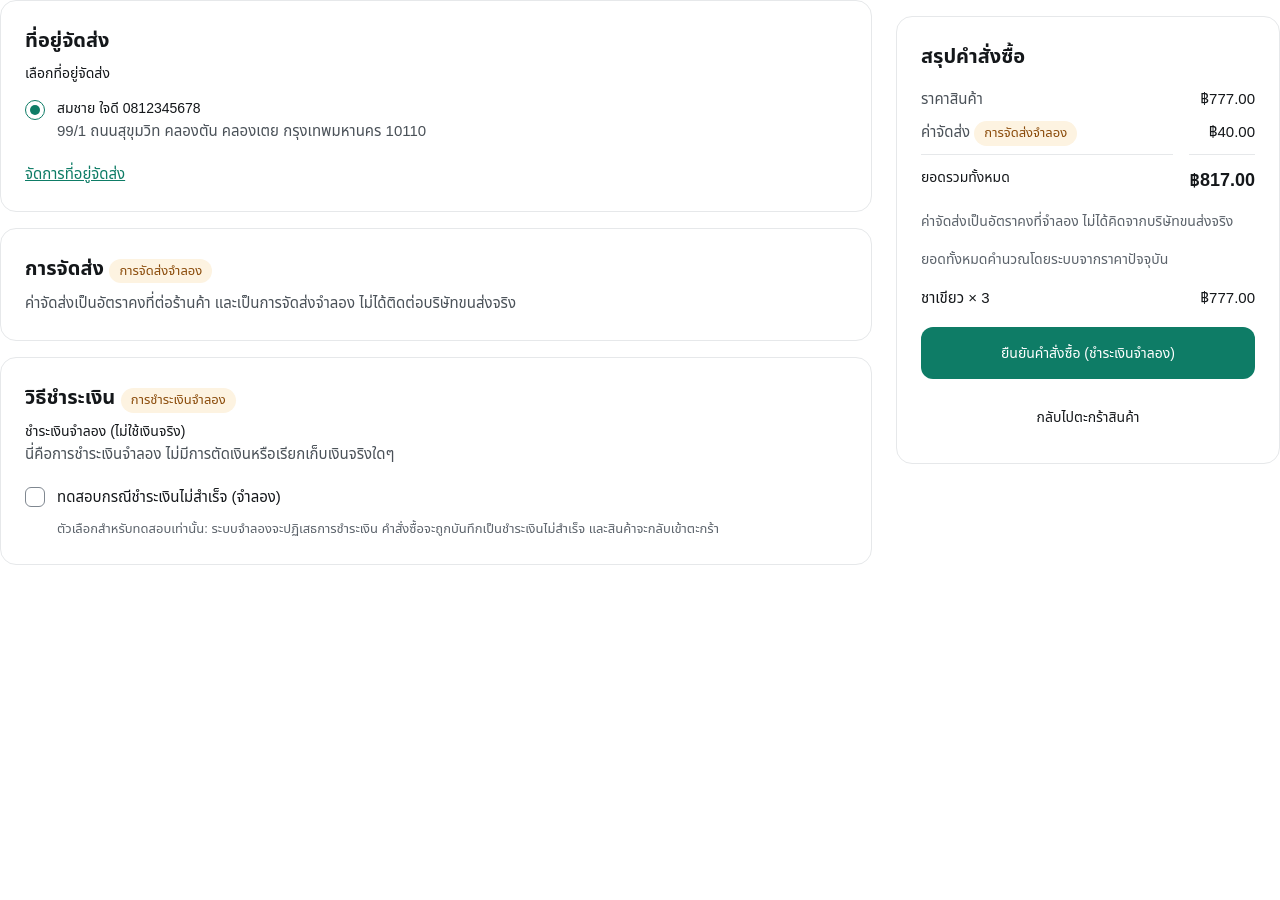
Test: CheckoutView submit › unlocks the form again when the check finds the cart changed
Click the button "ยืนยันคำสั่งซื้อ (ชำระเงินจำลอง)" at {"x": 1088, "y": 353}, box [921,327,1255,379]
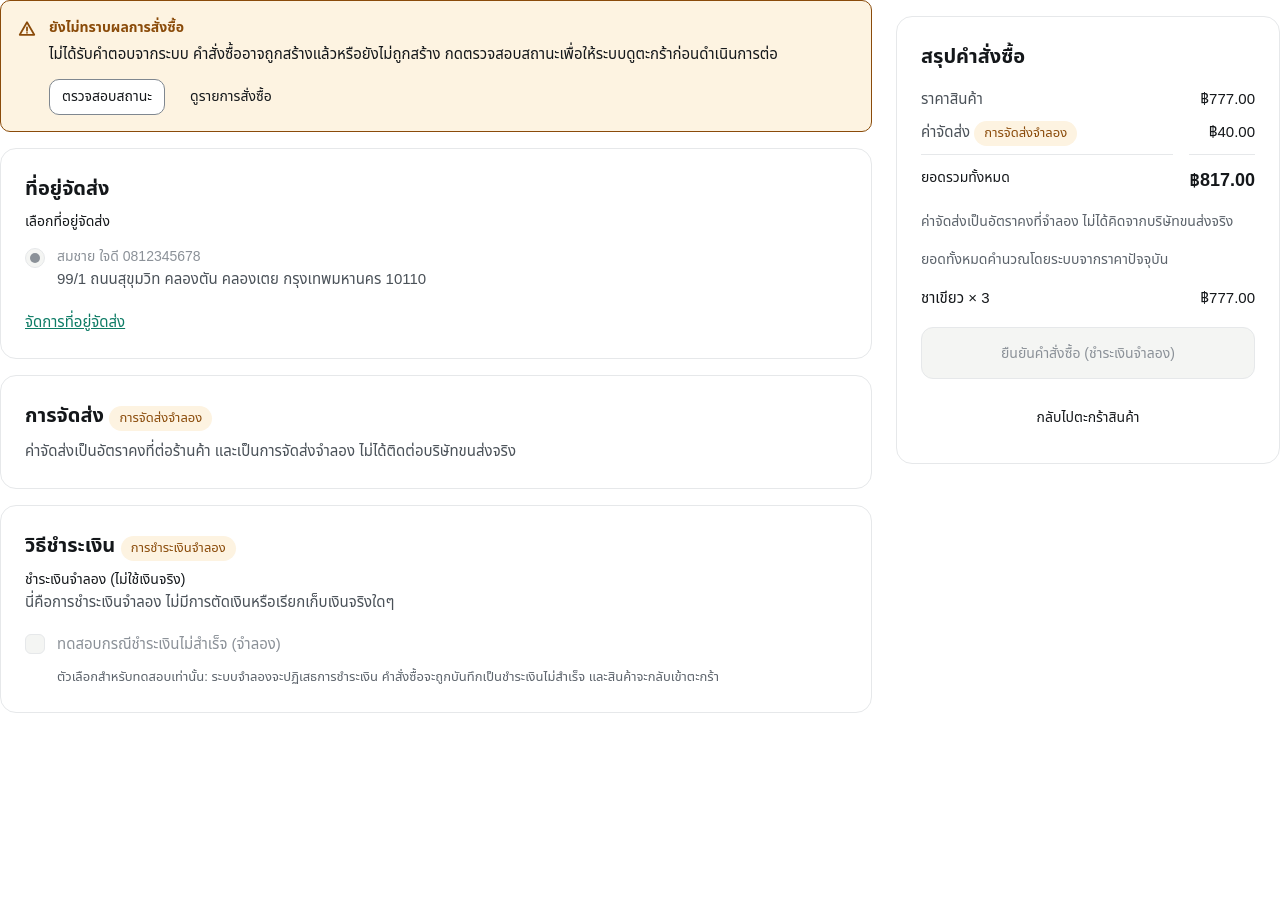
expect the text "ยังไม่ทราบผลการสั่งซื้อ" is shown: met, box [49,19,184,35]
Click the button "ตรวจสอบสถานะ" at {"x": 107, "y": 97}, box [49,79,165,115]
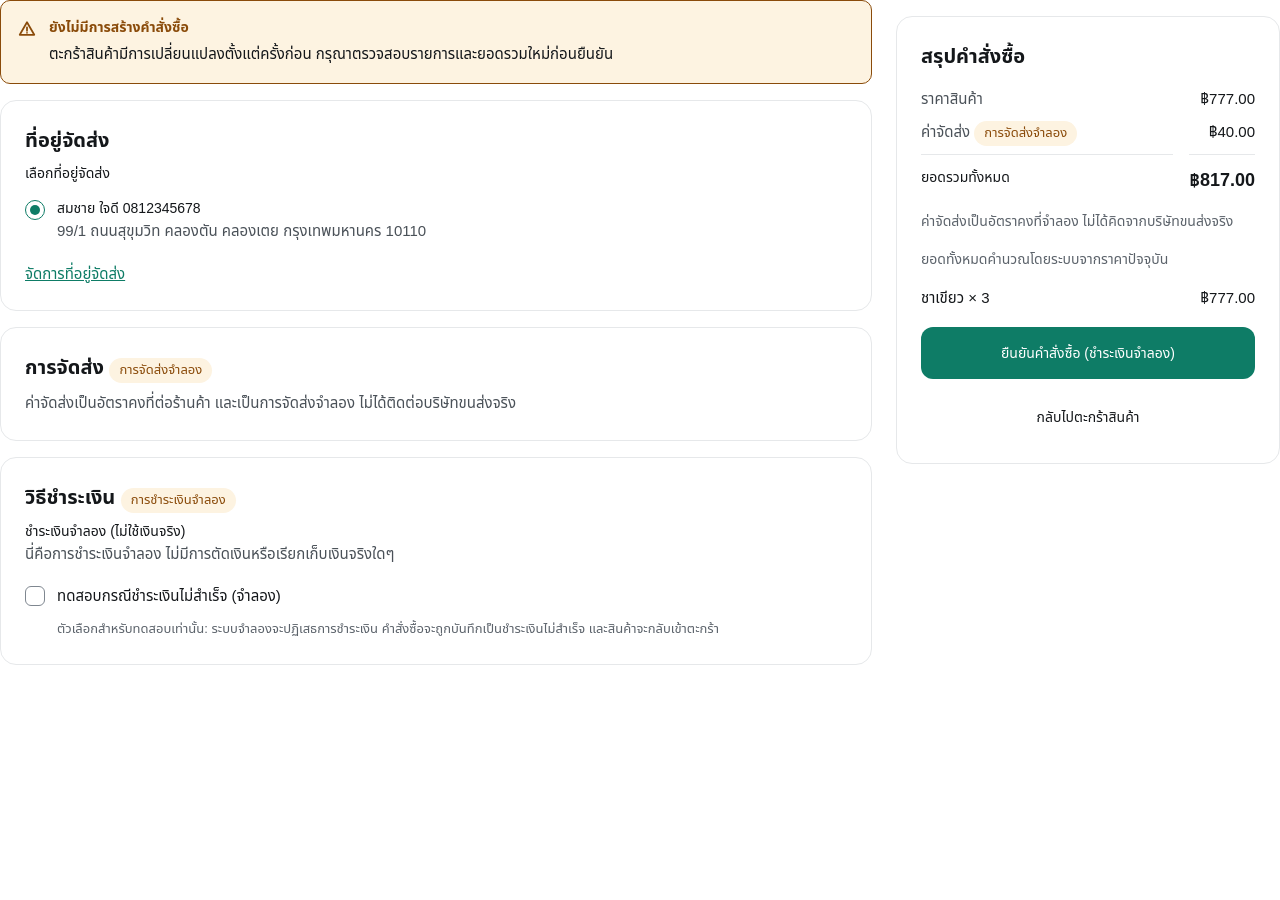
expect the text "ตะกร้าสินค้ามีการเปลี่ยนแปลงตั้งแต่ครั้งก่อน กรุณาตรวจสอบรายการและยอดรวมใหม่ก่อนยืนยัน" is shown: met, box [49,45,613,62]
expect the button "ยืนยันคำสั่งซื้อ (ชำระเงินจำลอง)" is enabled: met, box [921,327,1255,379]
